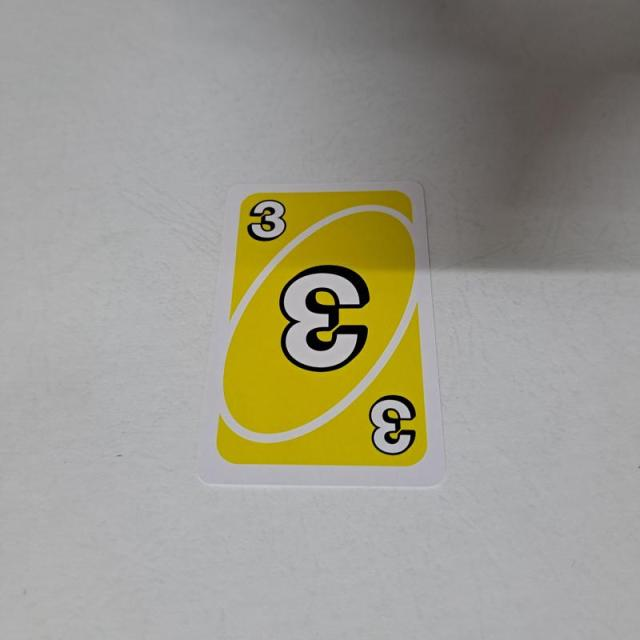Number_3: (245, 191, 292, 248)
Yellow_Card: (207, 183, 433, 476)
